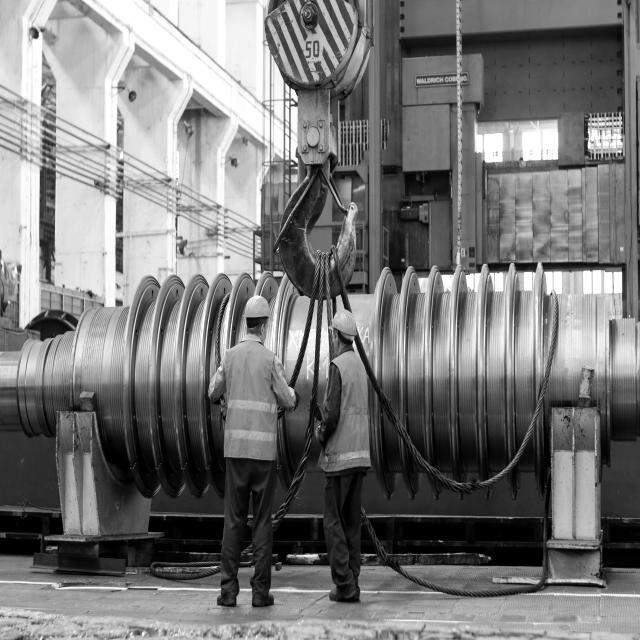Boots: (328, 583, 356, 604), (215, 591, 238, 608), (253, 593, 276, 610)
Vest: (226, 344, 278, 460), (321, 351, 369, 475)
